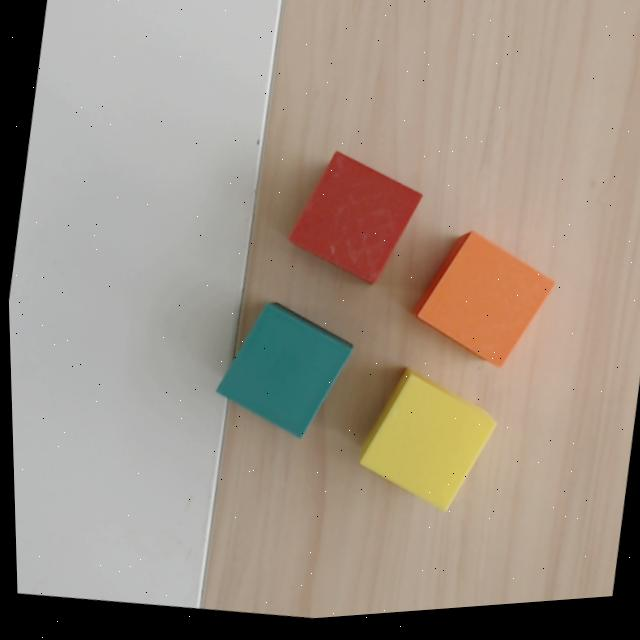Kubus-Hijau-505050: (215, 298, 355, 441)
Kubus-Jingga-505050: (409, 226, 555, 371)
Kubus-Kuning-505050: (354, 368, 499, 514)
Kubus-Merah-505050: (286, 148, 422, 286)
